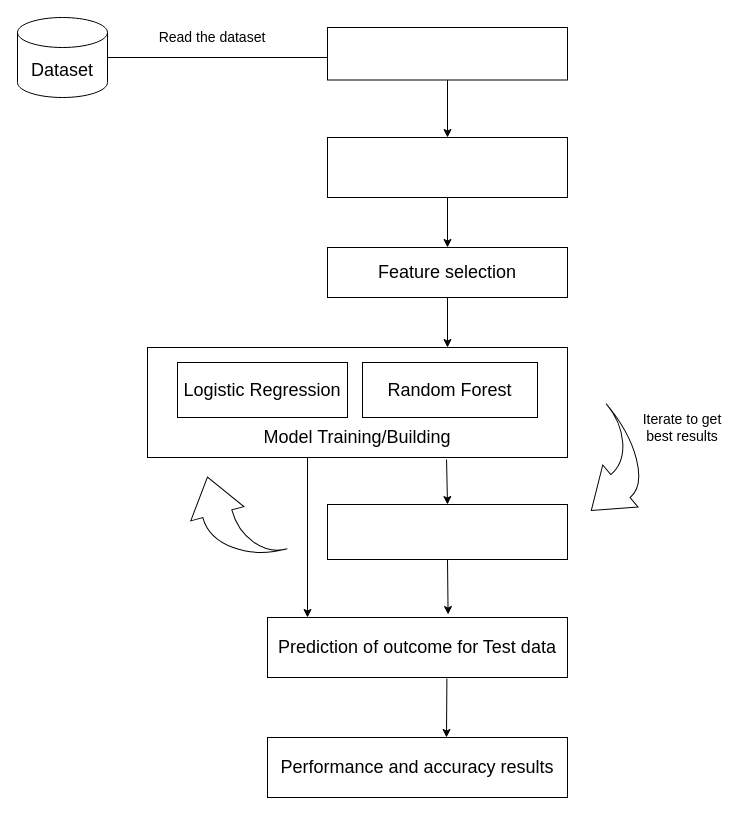
Some shapes in this 745 by 815 pixel diagram are drawn without their labels. The centre of each missing label's shape, as x and y in pixels:
Divide data set into train and test: (447,167)
Oversampling: (447,53)
Test model prediction: (447,532)
